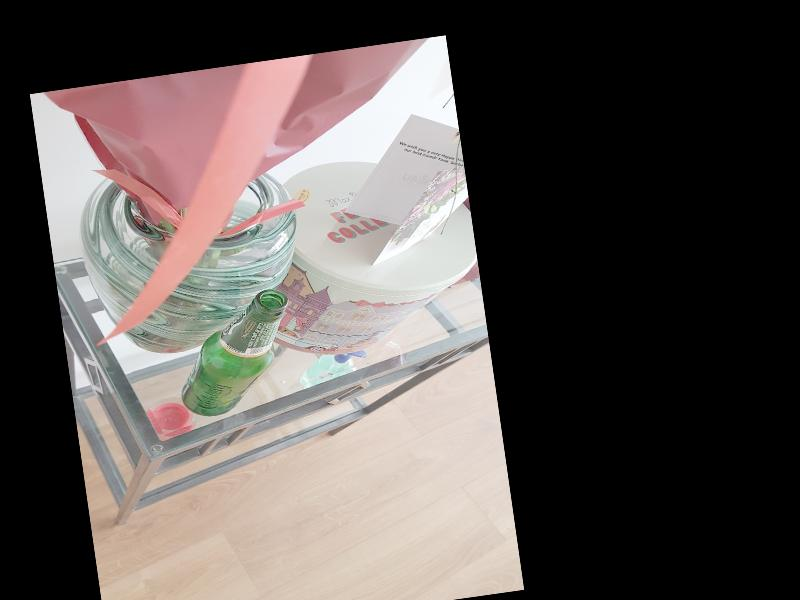Beer: (166, 287, 301, 420)
